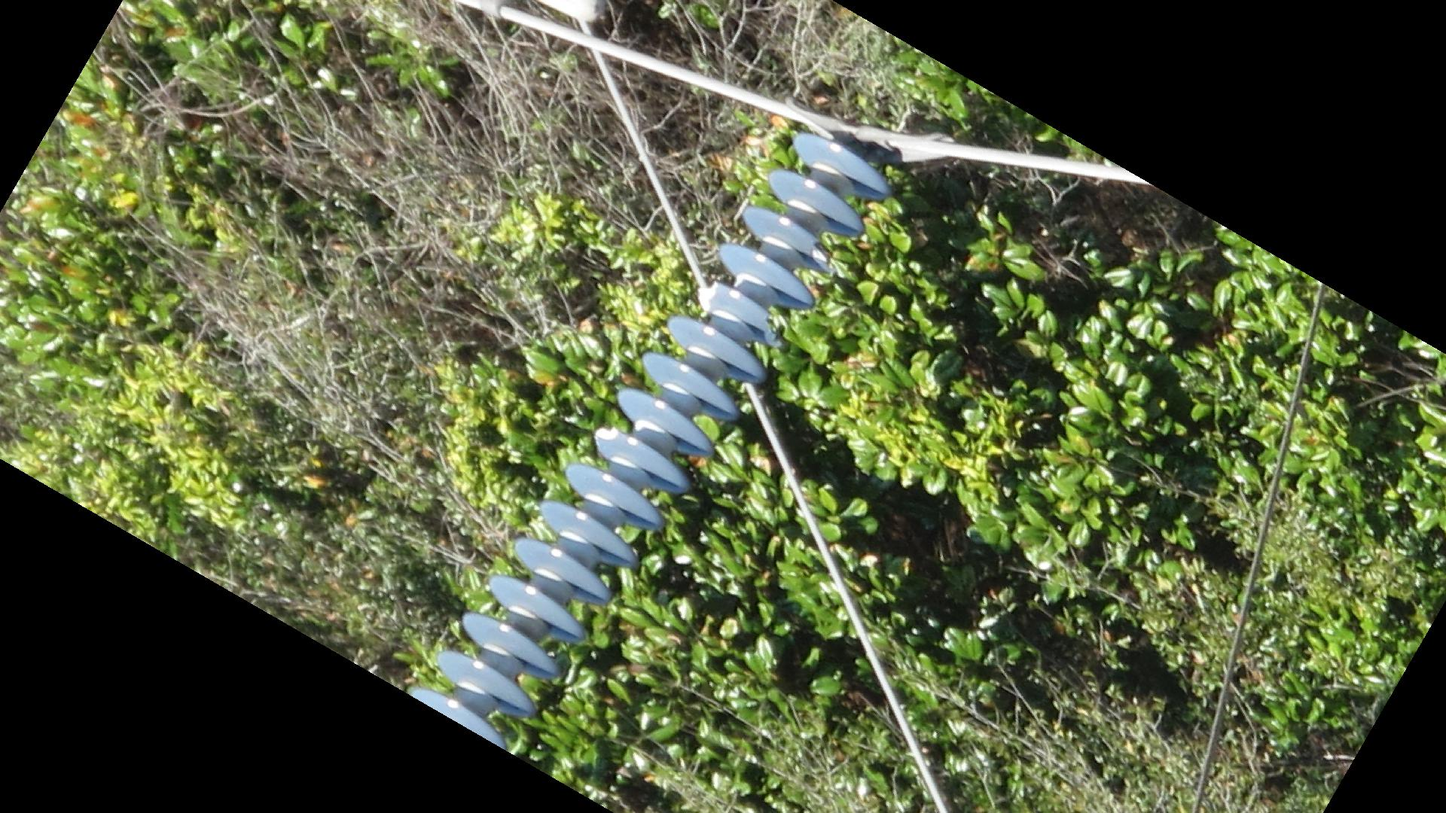insulator: (402, 126, 892, 757)
insulator_breakage: (804, 236, 840, 279), (757, 306, 789, 353), (693, 276, 725, 315), (587, 423, 624, 452)
